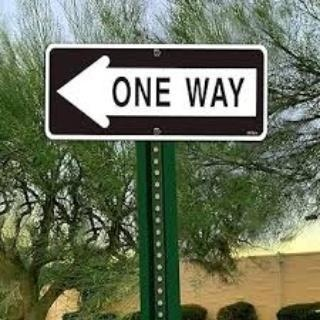sign_oneway_left: (47, 46, 266, 138)
